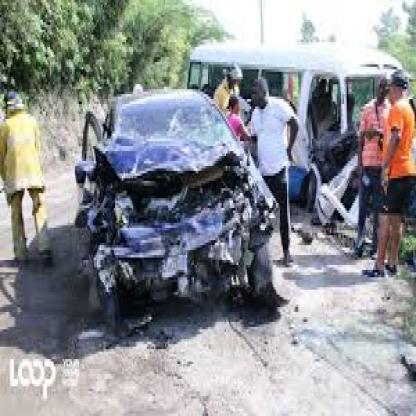accident: (65, 66, 293, 347)
